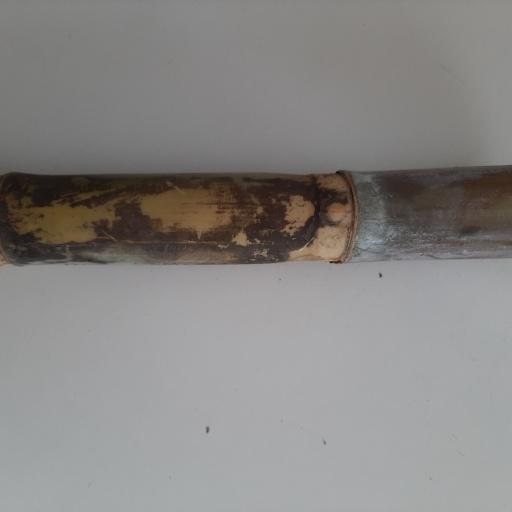Bud: (322, 195, 351, 225)
